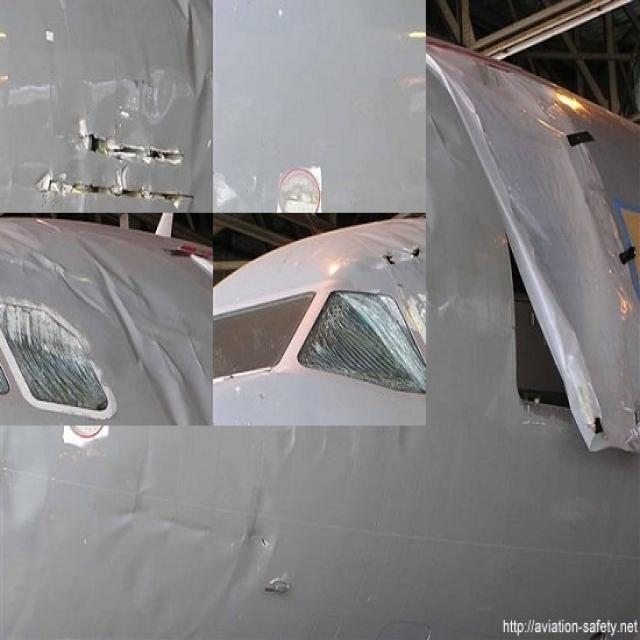crack: (33, 119, 198, 209)
